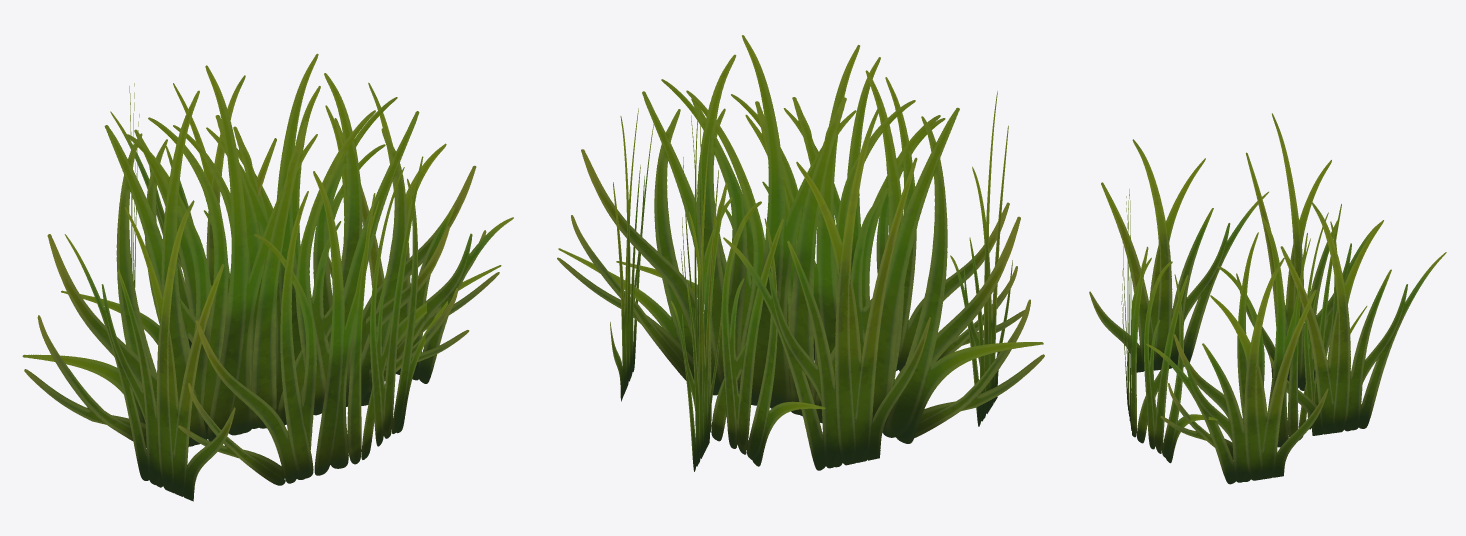
The model's file is SM_Grass_02.fbx.
The picture shows the model from 3 angles, left to right: view 1: azimuth 30°, elevation 25°; view 2: azimuth 150°, elevation 25°; view 3: azimuth 270°, elevation 25°; orthographic projection. The views are drawn at different scales.
Visible parts, largest first — view 1: SM_Grass_02; view 2: SM_Grass_02; view 3: SM_Grass_02.
Boxes of the visible parts, bbox=[...] form: SM_Grass_02: bbox=[22, 53, 513, 501]; SM_Grass_02: bbox=[557, 35, 1044, 471]; SM_Grass_02: bbox=[1089, 113, 1446, 484].
Size of the model in its own units: 0.4483 by 0.3587 by 0.3744.
